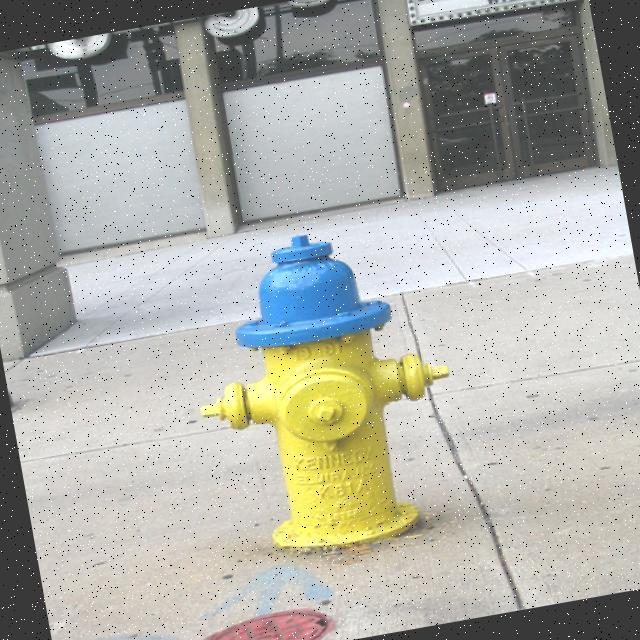fire_hydrant: (164, 200, 484, 568)
